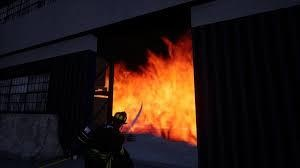fire: (109, 37, 196, 142)
